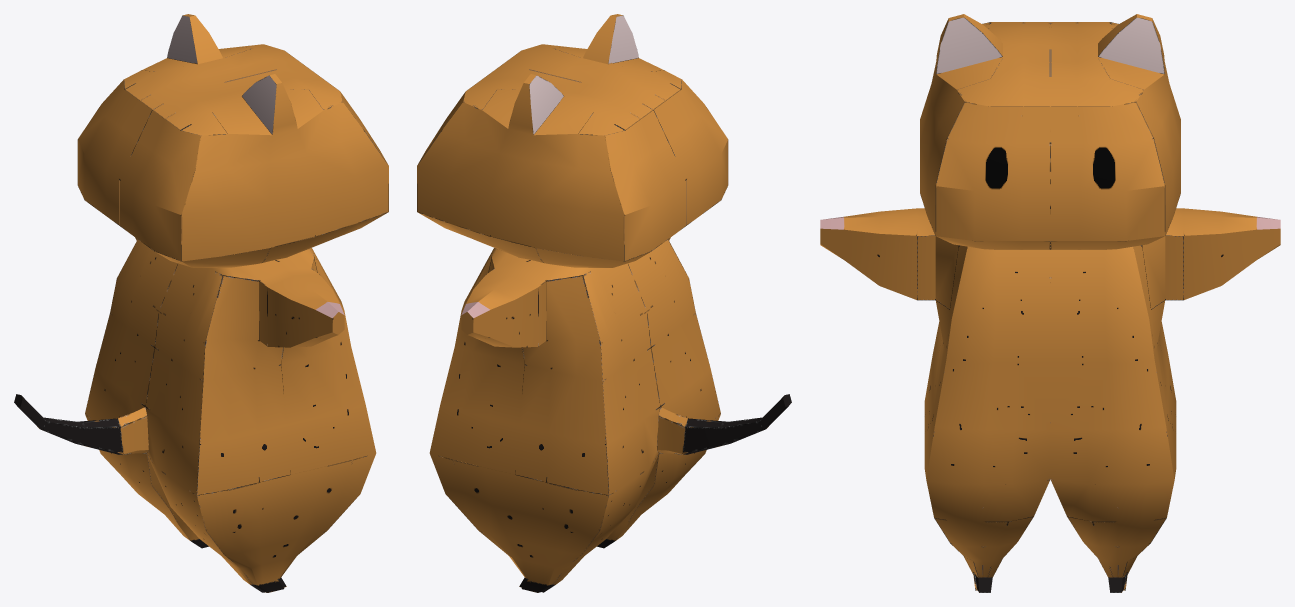
The model's file is AbarcaDayson_Cat.fbx.
3 renders of one model, left to right at view 1: azimuth 30°, elevation 25°; view 2: azimuth 150°, elevation 25°; view 3: azimuth 270°, elevation 25°, orthographic. The views are drawn at different scales.
Parts seen in each view (by area): view 1: Cube, Cube.001; view 2: Cube, Cube.001; view 3: Cube, Cube.001.
Boxes of the visible parts, x1,y1,x2,y2 form: Cube: (14, 215, 376, 592); Cube.001: (77, 14, 388, 267); Cube: (429, 215, 791, 592); Cube.001: (417, 14, 728, 267); Cube: (820, 208, 1280, 592); Cube.001: (920, 14, 1180, 249).
Bounding box in the file's own units: 447 × 681 × 502.
Materials: 2 (2 with a texture image).
